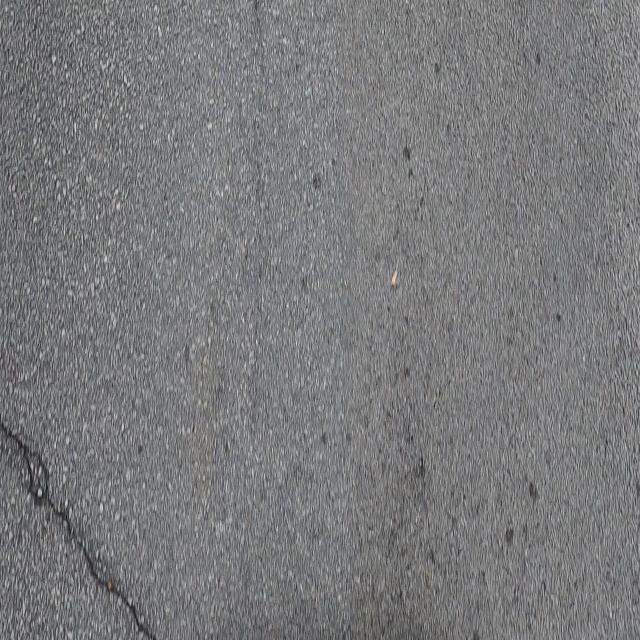Retak-Melintang: (0, 406, 165, 640)
